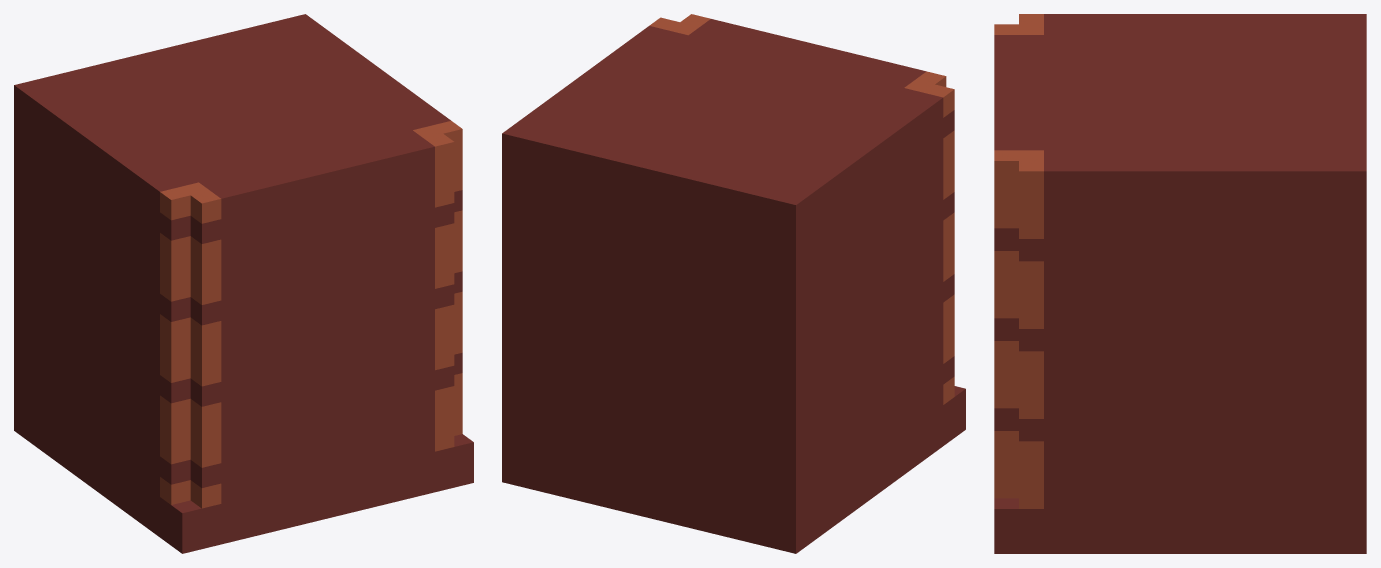
The model's file is dungeon_b_b_outer_wall_segment_b_flipped.obj.
The picture shows the model from 3 angles, left to right: view 1: azimuth 30°, elevation 25°; view 2: azimuth 150°, elevation 25°; view 3: azimuth 270°, elevation 25°; orthographic projection. The views are drawn at different scales.
Bounding box in the file's own units: 1.5 × 1.7 × 1.5.
1 material, 1 textured.
